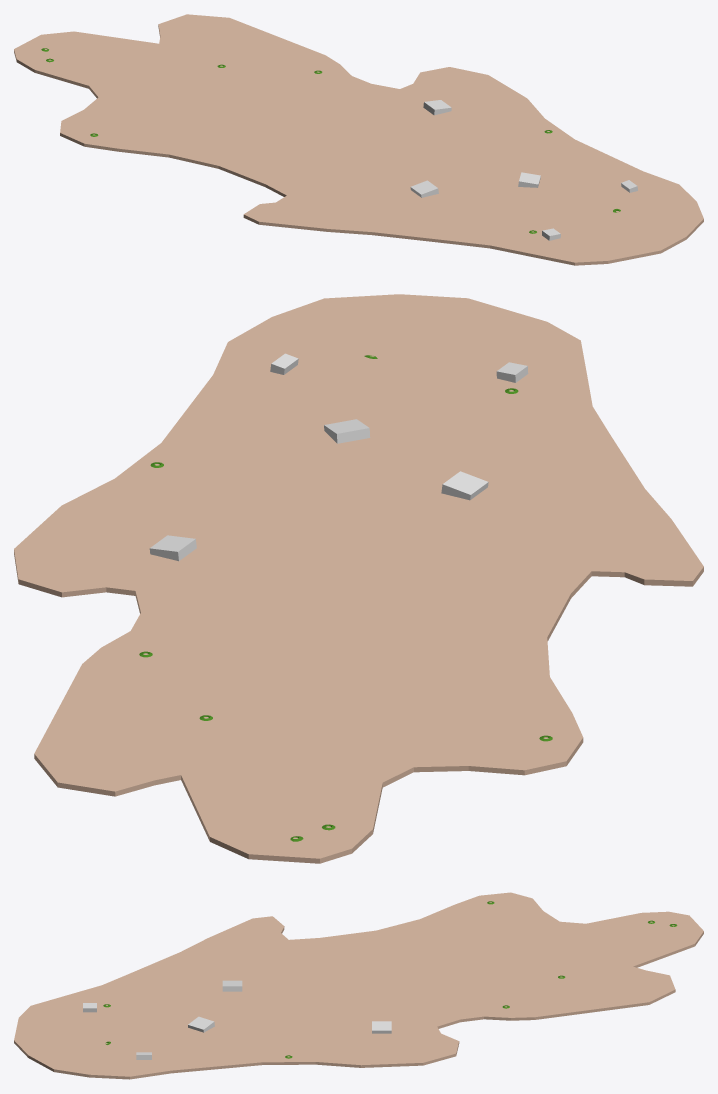
The model's file is Soup.fbx.
3 views of the same model, one above another, from view 1: azimuth 30°, elevation 25°; view 2: azimuth 150°, elevation 25°; view 3: azimuth 270°, elevation 25° (orthographic). The views are drawn at different scales.
Visible parts, largest first — view 1: soup; view 2: soup, tofu.001, tofu; view 3: soup.
Boxes of the visible parts, x1,y1,x2,y2 form: soup: (14,14,703,265); soup: (14,294,703,863); tofu.001: (441,471,488,500); tofu: (149,535,196,561); soup: (14,892,703,1079).
Size of the model in its own units: 261 by 5.27 by 414.
